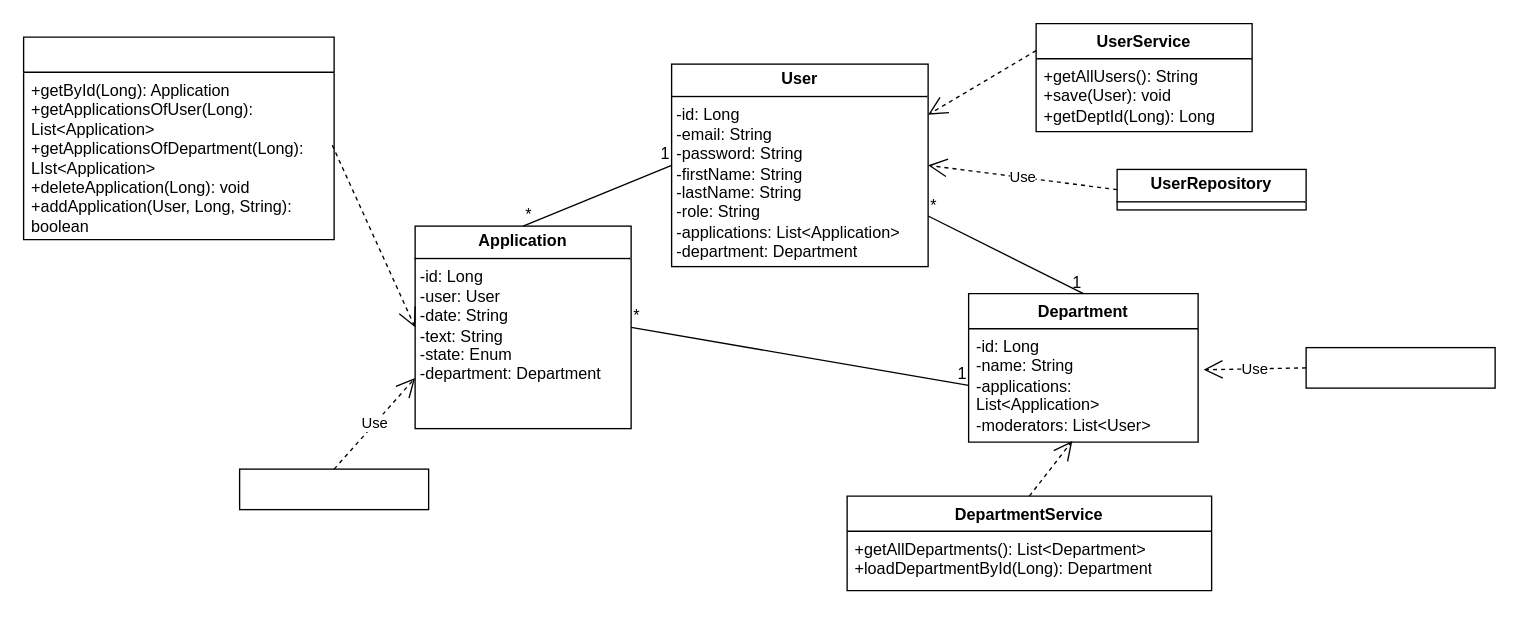
Some shapes in this 1519 by 618 pixel diagram are drawn without their labels. Here are the shapes that lost their labels. From the top down, the box of each, then its label:
(22, 36, 334, 240): ApplicationService
(1305, 346, 1495, 388): DepartmentRepository
(238, 468, 429, 510): ApplicationRepository
